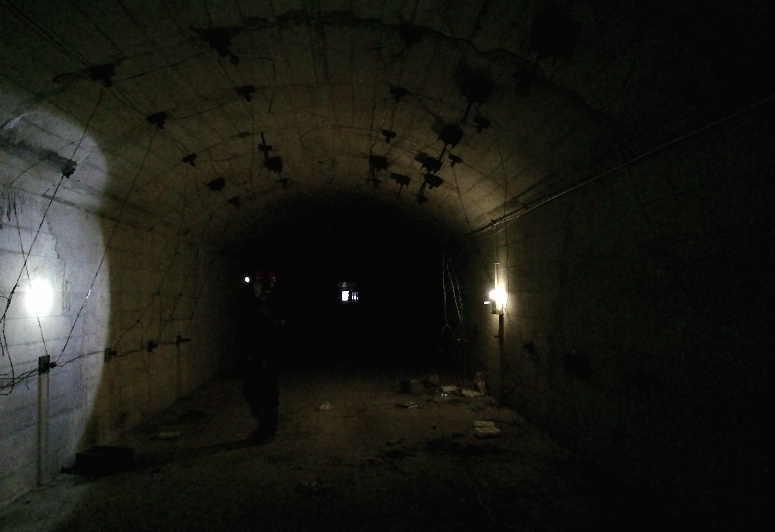person: (192, 271, 286, 454)
